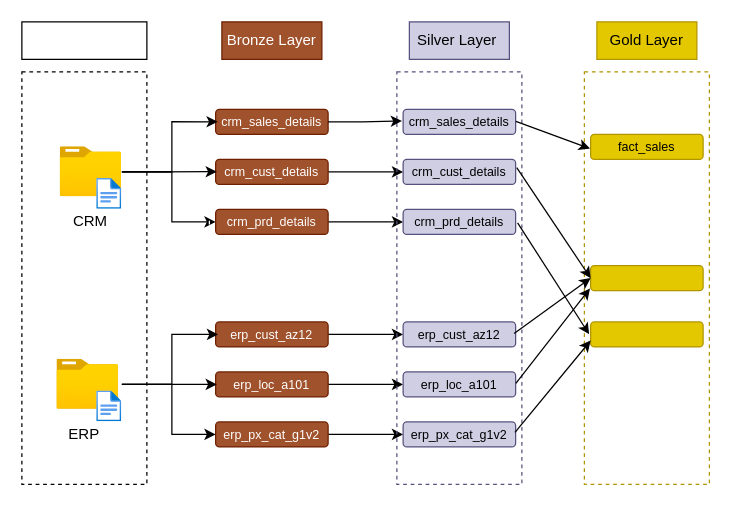
The diagram is 731 pixels wide and 506 high, and some of its shapes have lost their labels. Each missing label, with the centre of its shape:
"dim_customers" goes at [646,277].
"dim_products" goes at [646,334].
"Sources" goes at [84,40].
